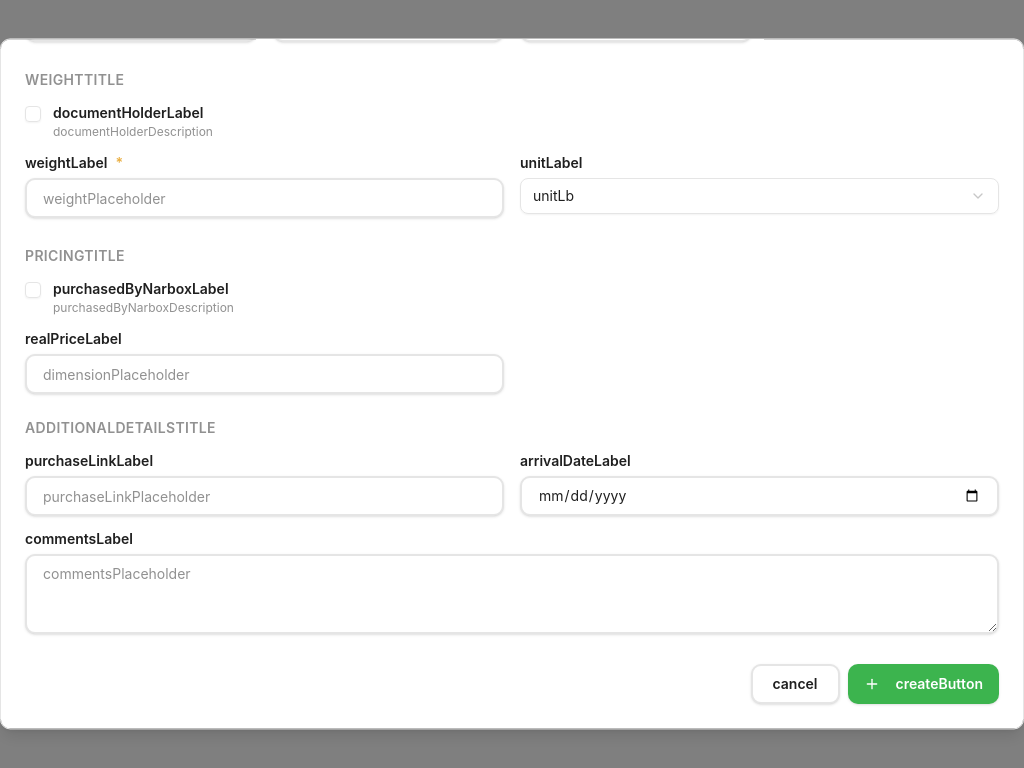
Test: AddPackageDialog › shows validation error when barcode is empty on submit
(page scrolled)
Click the button "createButton". click: {"x": 923, "y": 684}
box: [848,664,999,704]
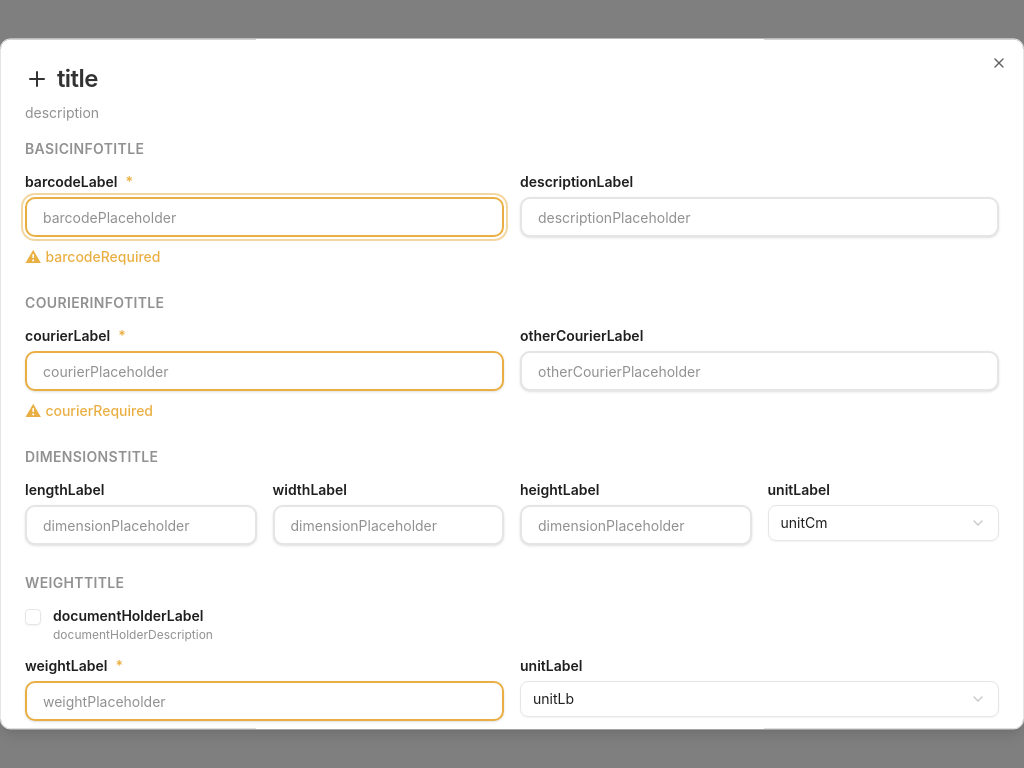
expect the text "barcodeRequired" is shown: met, box [45,248,160,265]
